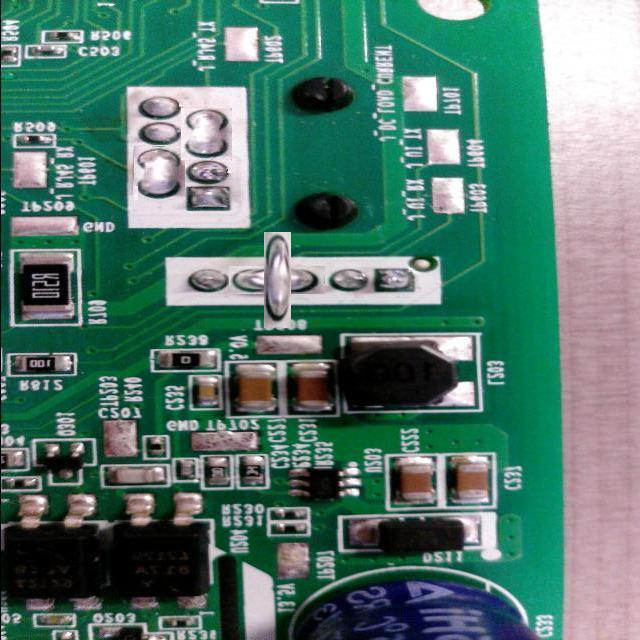Short_circuit: (246, 249, 308, 311), (133, 145, 185, 200), (182, 108, 234, 160)
